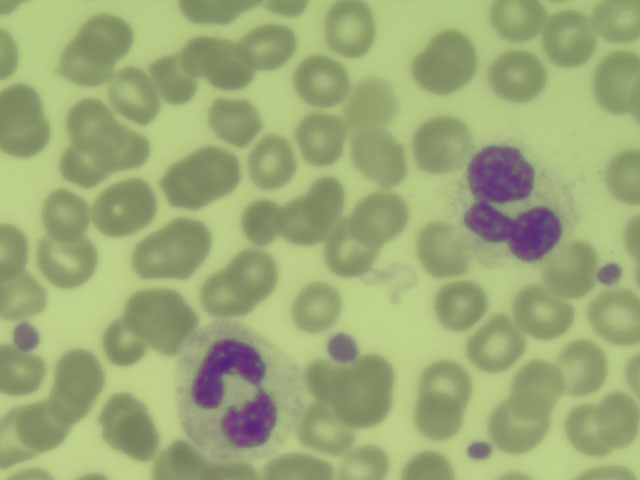Platelets: (327, 332, 359, 362), (9, 325, 42, 353), (597, 259, 625, 288), (468, 440, 495, 459)
RBC: (511, 286, 576, 338), (489, 51, 550, 105), (413, 116, 472, 171), (427, 24, 482, 83), (488, 397, 551, 447), (556, 339, 611, 394), (38, 236, 94, 289), (350, 194, 413, 240), (325, 2, 381, 53), (431, 280, 489, 329), (354, 132, 407, 185), (208, 96, 266, 144), (297, 56, 349, 109), (161, 221, 212, 275), (468, 318, 524, 367), (280, 198, 330, 252), (596, 53, 640, 113), (301, 405, 356, 453), (589, 294, 640, 345), (547, 240, 597, 292), (511, 362, 568, 407), (109, 67, 156, 121), (15, 405, 74, 448), (240, 24, 296, 69), (249, 134, 297, 186), (350, 73, 397, 126), (543, 17, 597, 63), (1, 415, 46, 470), (296, 118, 346, 167), (230, 247, 277, 299), (56, 347, 103, 399), (413, 395, 467, 440), (332, 390, 391, 431), (100, 124, 151, 171), (57, 42, 113, 84), (188, 149, 238, 196), (489, 2, 549, 41), (599, 391, 640, 448), (1, 268, 47, 318), (422, 357, 470, 404), (155, 298, 195, 353), (590, 1, 640, 45), (295, 283, 341, 330), (406, 55, 466, 91), (164, 159, 207, 209), (65, 101, 110, 148), (93, 186, 135, 236), (605, 150, 640, 210), (418, 224, 459, 275), (566, 407, 611, 453), (149, 53, 193, 100), (45, 191, 89, 238), (46, 381, 95, 423), (340, 442, 394, 480), (332, 228, 378, 272), (210, 43, 257, 86), (203, 269, 244, 318), (105, 319, 147, 366), (101, 394, 149, 435), (2, 348, 42, 397), (186, 35, 229, 80), (1, 87, 43, 133), (83, 17, 130, 58), (122, 176, 158, 229), (127, 291, 171, 334), (305, 178, 349, 221), (154, 444, 206, 480), (308, 354, 347, 402), (59, 146, 103, 188), (124, 416, 161, 463), (133, 237, 172, 280), (5, 121, 54, 154), (239, 202, 281, 240), (273, 453, 330, 480), (400, 455, 459, 480), (355, 360, 394, 396), (1, 223, 26, 275), (175, 2, 229, 23), (2, 28, 23, 79), (576, 464, 640, 480)
WBC: (181, 332, 297, 456), (460, 148, 573, 266)
